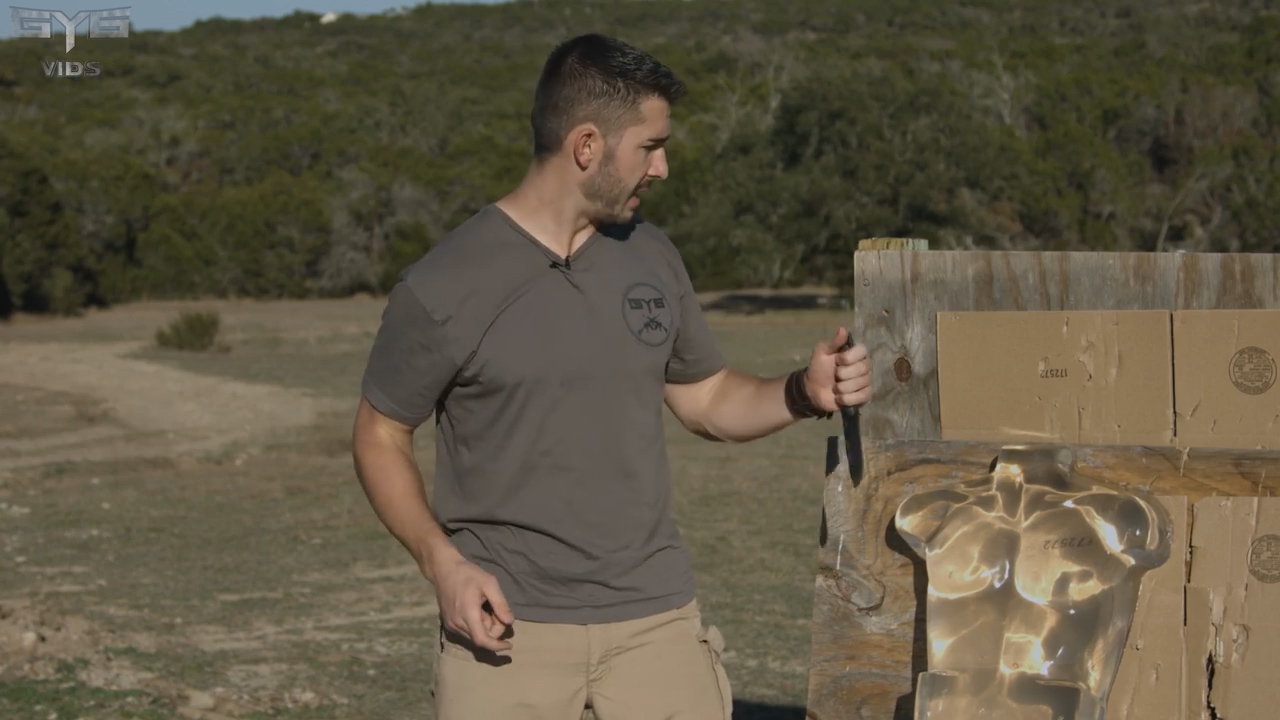knife: (812, 321, 880, 495)
